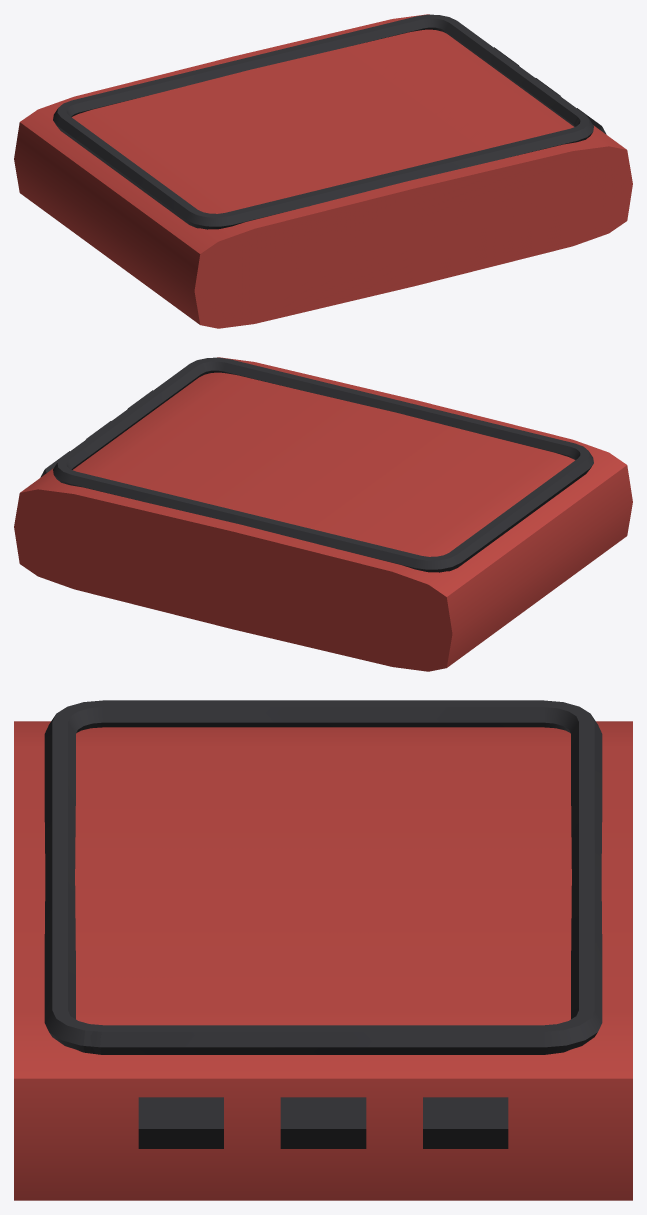
The model's file is satnav.glb.
The picture shows the model from 3 angles, top to bottom: view 1: azimuth 30°, elevation 25°; view 2: azimuth 150°, elevation 25°; view 3: azimuth 270°, elevation 25°; orthographic projection. The views are drawn at different scales.
Parts seen in each view (by area): view 1: lod0; view 2: lod0; view 3: lod0.
Boxes of the visible parts, x1,y1,x2,y2 form: lod0: (14, 14, 632, 328); lod0: (14, 357, 632, 671); lod0: (14, 700, 632, 1200).
Size of what is drawn, in the model's own units: 0.1255 by 0.0367 by 0.087.
